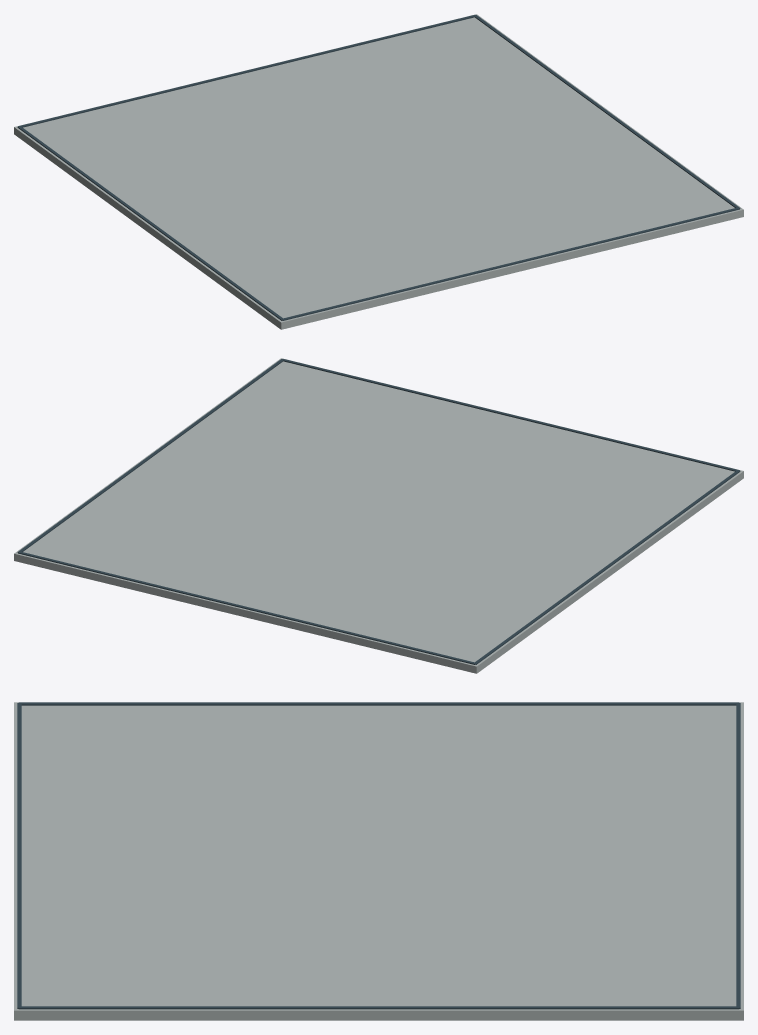
Rendered from ground-concrete-low.glb.
3 views of the same model, one above another, from view 1: azimuth 30°, elevation 25°; view 2: azimuth 150°, elevation 25°; view 3: azimuth 270°, elevation 25° (orthographic). The views are drawn at different scales.
Parts seen in each view (by area): view 1: asset_ground-concrete__FP_Baked; view 2: asset_ground-concrete__FP_Baked; view 3: asset_ground-concrete__FP_Baked.
Boxes of the visible parts, box(x1,y1,x2,y2) form: asset_ground-concrete__FP_Baked: box(14, 14, 743, 329); asset_ground-concrete__FP_Baked: box(14, 358, 743, 673); asset_ground-concrete__FP_Baked: box(14, 702, 743, 1020).
Size of the model in its own units: 4 by 0.068 by 4.
